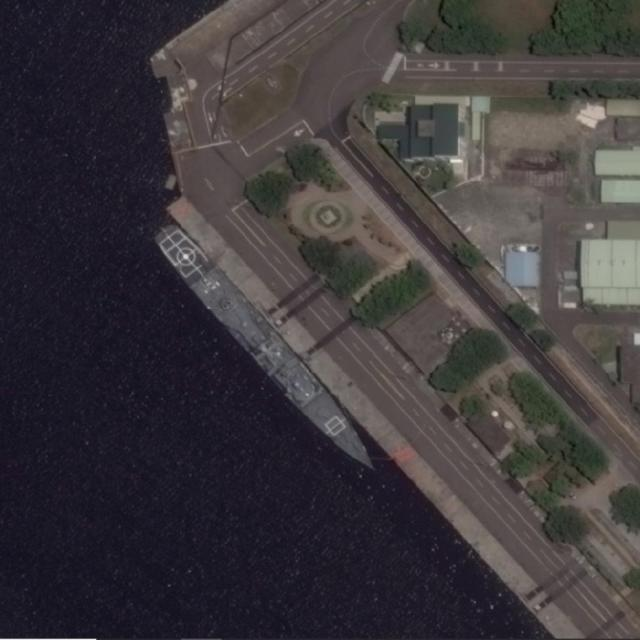Frigate: (147, 218, 388, 478)
